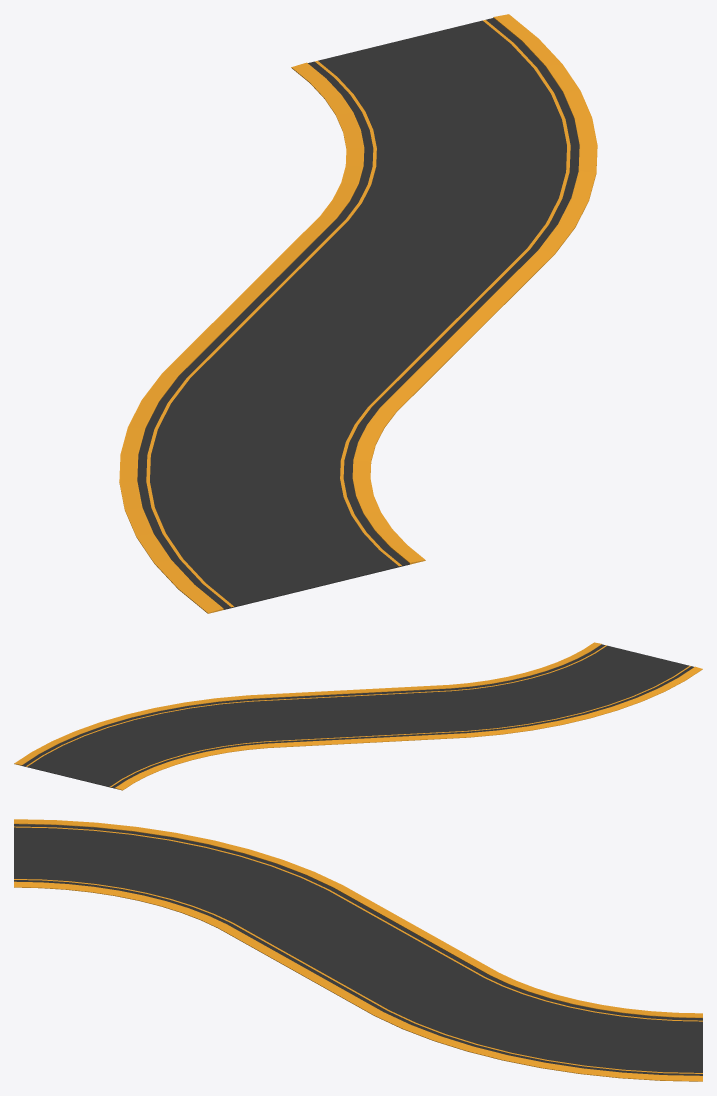
File: SM_Racetrack_RunOff_Shift_60x60m.fbx
The picture shows the model from 3 angles, top to bottom: view 1: azimuth 30°, elevation 25°; view 2: azimuth 150°, elevation 25°; view 3: azimuth 270°, elevation 25°; orthographic projection. The views are drawn at different scales.
Visible parts, largest first — view 1: SM_Racetrack_RunOff_Shift_60x60m; view 2: SM_Racetrack_RunOff_Shift_60x60m; view 3: SM_Racetrack_RunOff_Shift_60x60m.
Part boxes in pixels (bbox=[...]): SM_Racetrack_RunOff_Shift_60x60m: bbox=[119, 14, 597, 613]; SM_Racetrack_RunOff_Shift_60x60m: bbox=[14, 642, 702, 790]; SM_Racetrack_RunOff_Shift_60x60m: bbox=[14, 819, 702, 1081].
Size of the model in its own units: 54 by 0.1 by 60.
